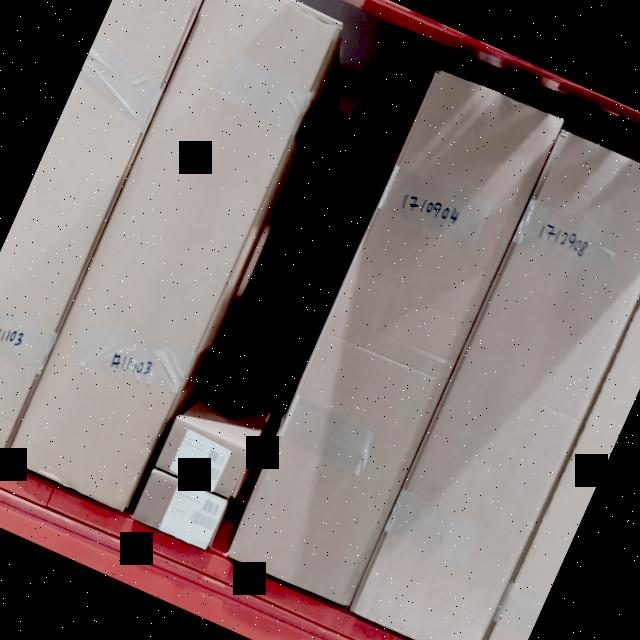box: (222, 69, 562, 609), (4, 0, 339, 511), (352, 126, 640, 640), (133, 472, 228, 552), (158, 418, 250, 496)
